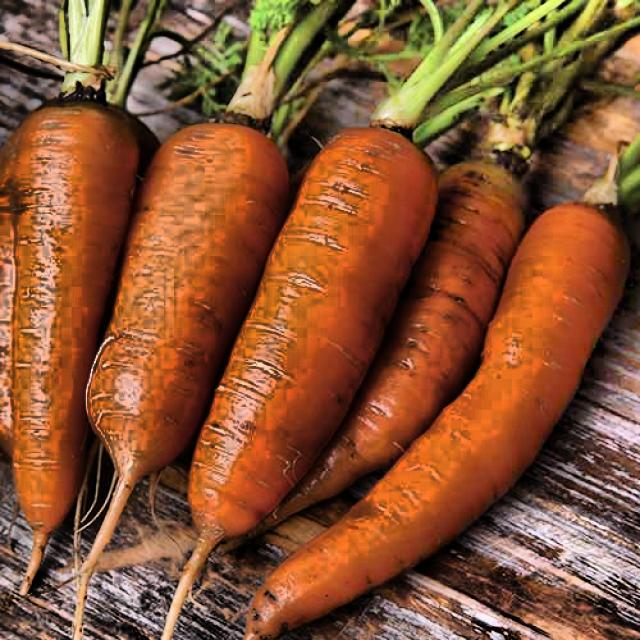carrot: (18, 29, 626, 632)
